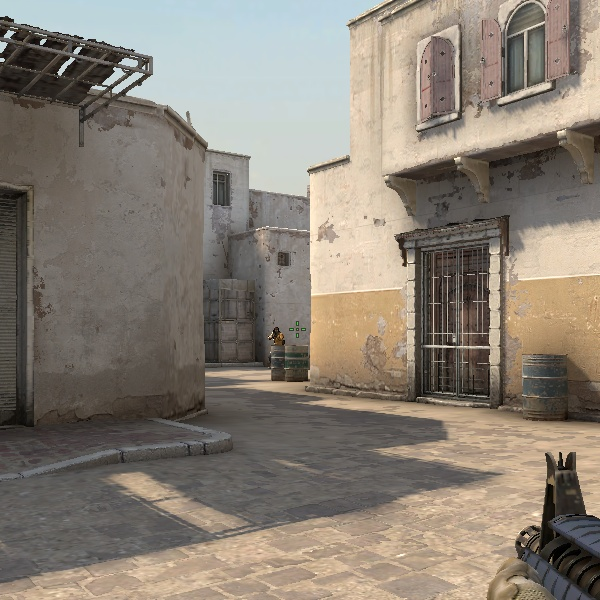t_body: (268, 326, 287, 346)
t_head: (273, 326, 280, 337)
